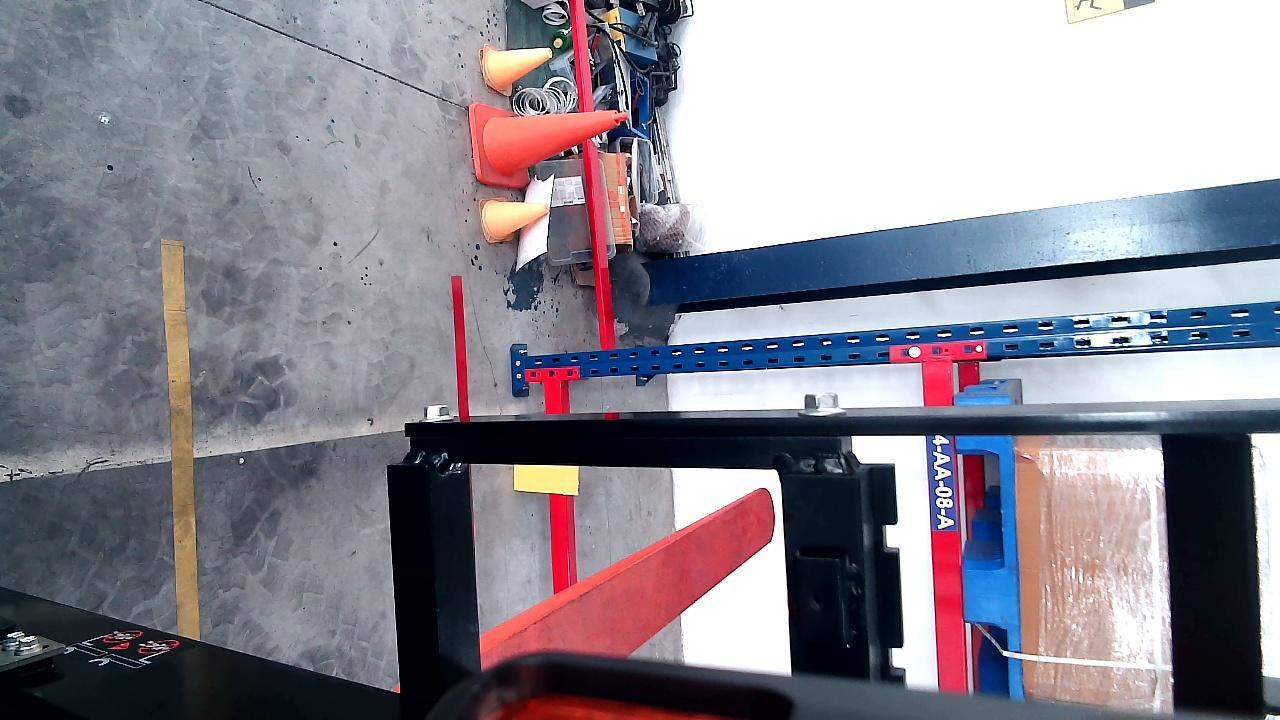red_line: (449, 272, 474, 422)
yellow_line: (167, 235, 199, 640)
